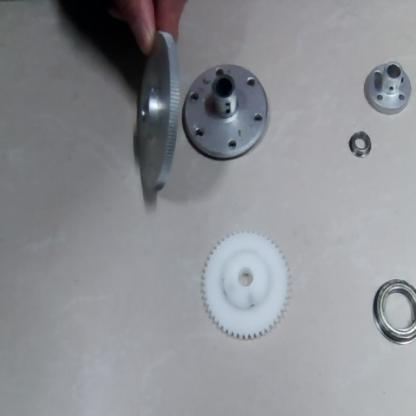FOD: (199, 228, 294, 344), (184, 63, 270, 161), (132, 28, 179, 204), (368, 276, 415, 349), (360, 55, 415, 115), (348, 130, 371, 157)
